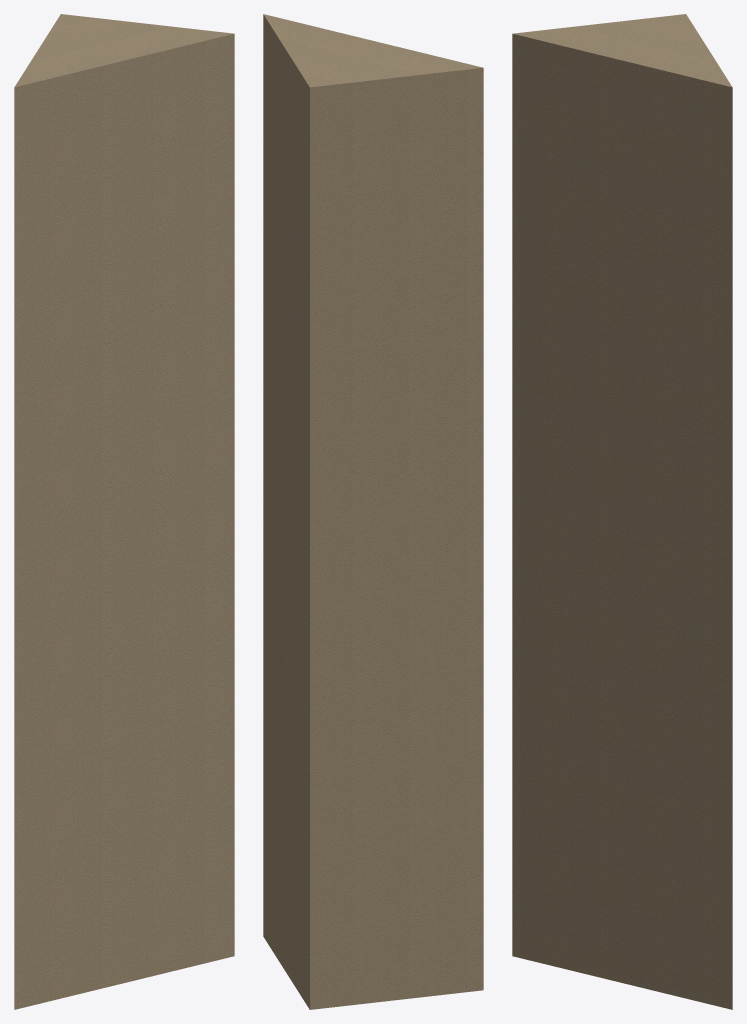
Rendered from BassBoxCorner.glb.
The picture shows the model from 3 angles, left to right: view 1: azimuth 30°, elevation 25°; view 2: azimuth 150°, elevation 25°; view 3: azimuth 330°, elevation 25°; orthographic projection.
Visible parts, largest first — view 1: BassMod Corner v0; view 2: BassMod Corner v0; view 3: BassMod Corner v0.
Boxes of the visible parts, <box> form: BassMod Corner v0: <box>14,14,234,1009</box>; BassMod Corner v0: <box>263,14,483,1009</box>; BassMod Corner v0: <box>512,14,732,1009</box>.
Size of the model in its own units: 24 by 96 by 12.
1 material, 1 textured.
